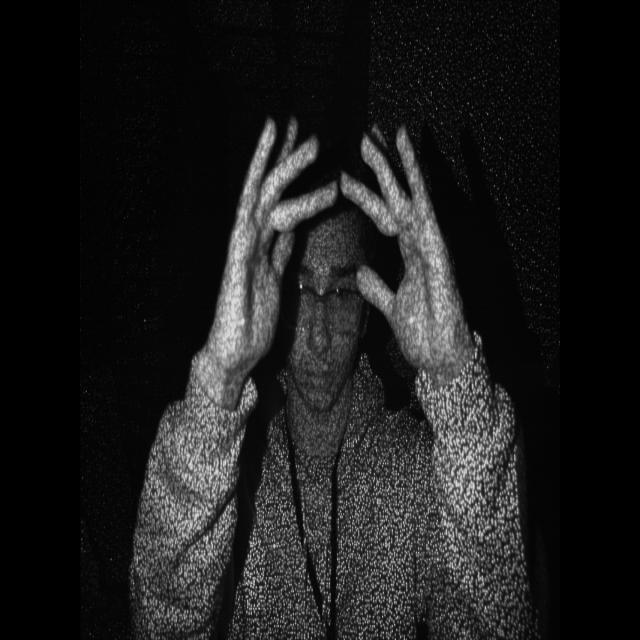REACH: (218, 104, 475, 384)
